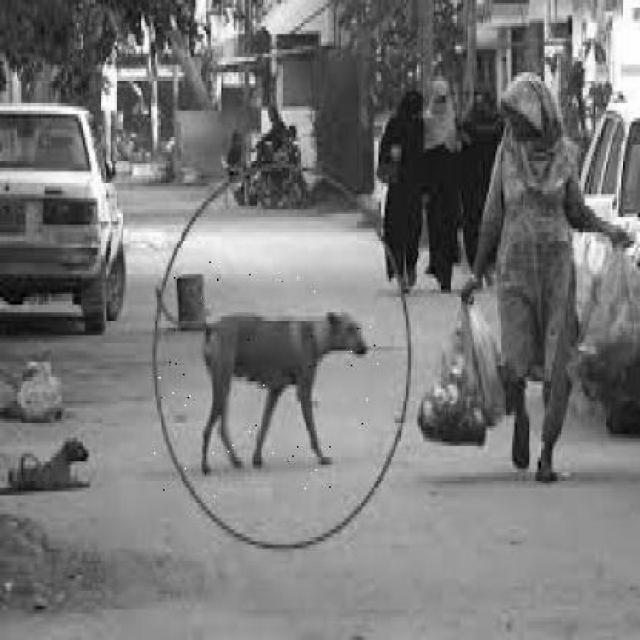Dog: (154, 260, 383, 498)
